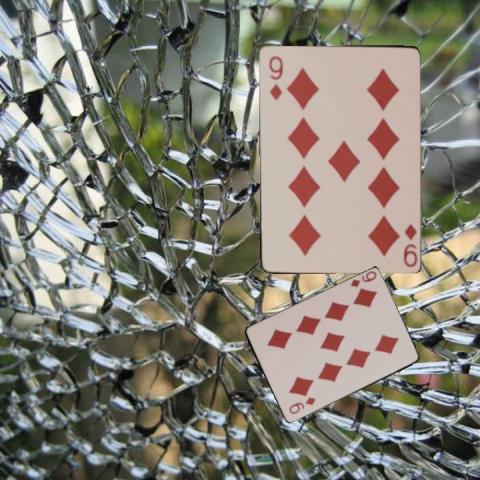9d: (266, 53, 283, 101), (400, 221, 417, 268), (285, 395, 317, 416), (347, 268, 378, 289)
